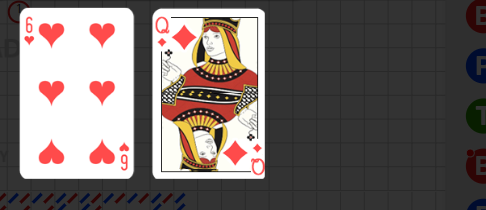6H: (23, 15, 35, 46)
QD: (208, 132, 252, 179), (141, 12, 185, 58)
